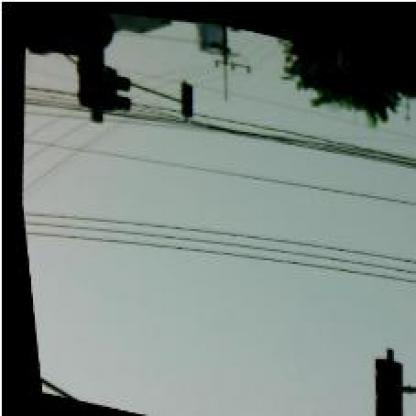red: (65, 23, 111, 109), (356, 347, 402, 415)
